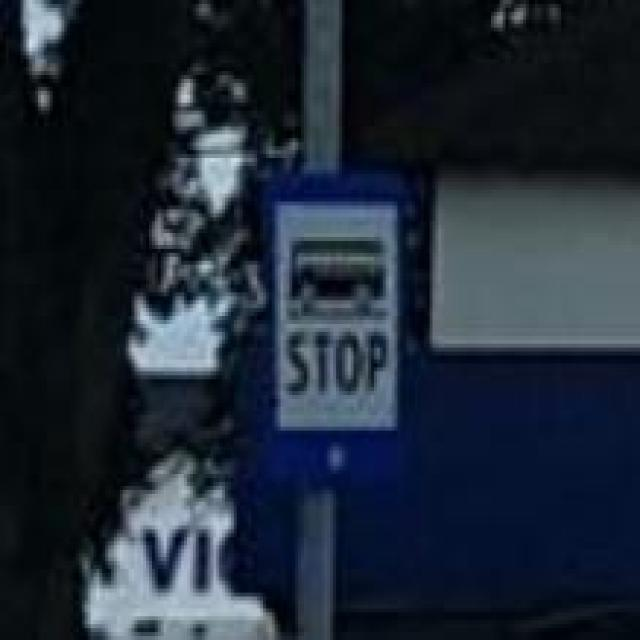traffic sign: (260, 170, 412, 486)
